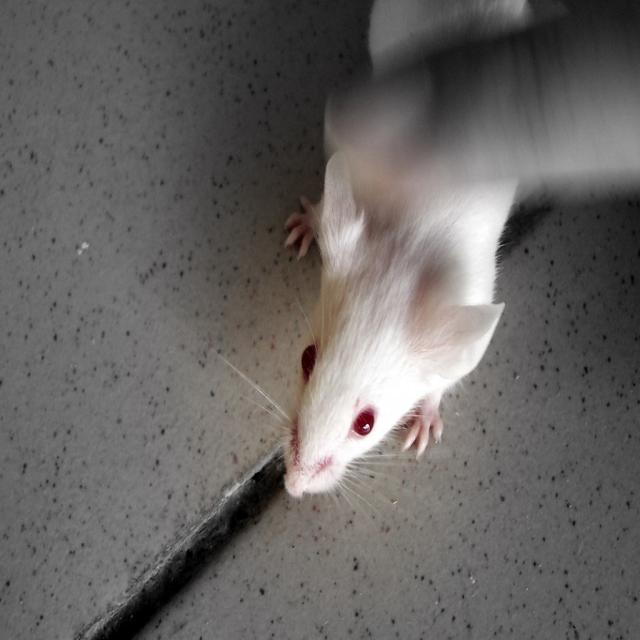rat: (218, 0, 533, 504)
